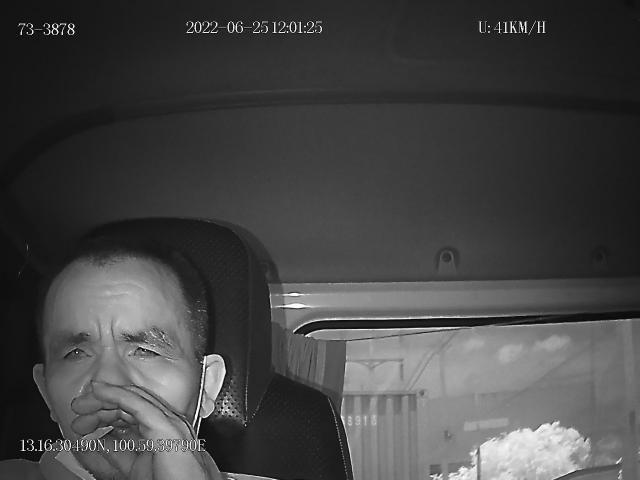SafeDriving: (56, 334, 98, 368), (122, 334, 169, 364)
Smoking: (75, 424, 117, 446)
